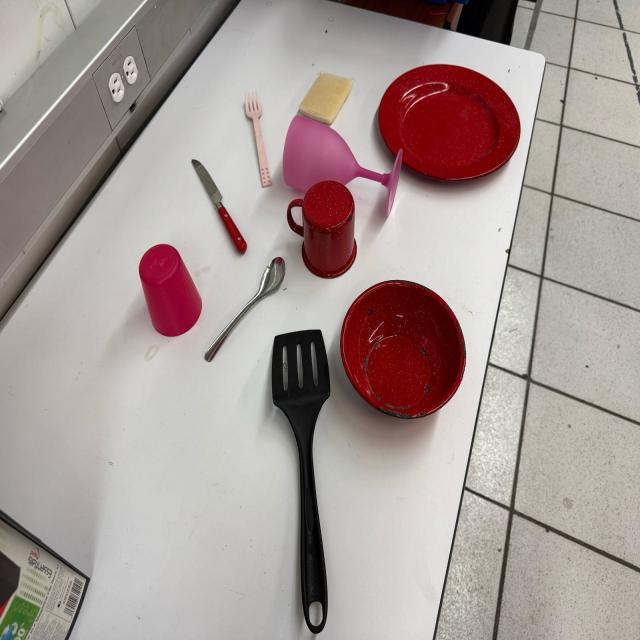cup: (286, 180, 356, 276)
fork: (244, 90, 272, 187)
glass: (138, 242, 202, 337)
knife: (190, 157, 248, 255)
plate: (379, 63, 523, 182)
spatula: (269, 328, 335, 631)
sponge: (298, 72, 356, 126)
spoon: (200, 254, 287, 363)
tazon: (340, 280, 466, 418)
wineglass: (283, 113, 407, 213)
